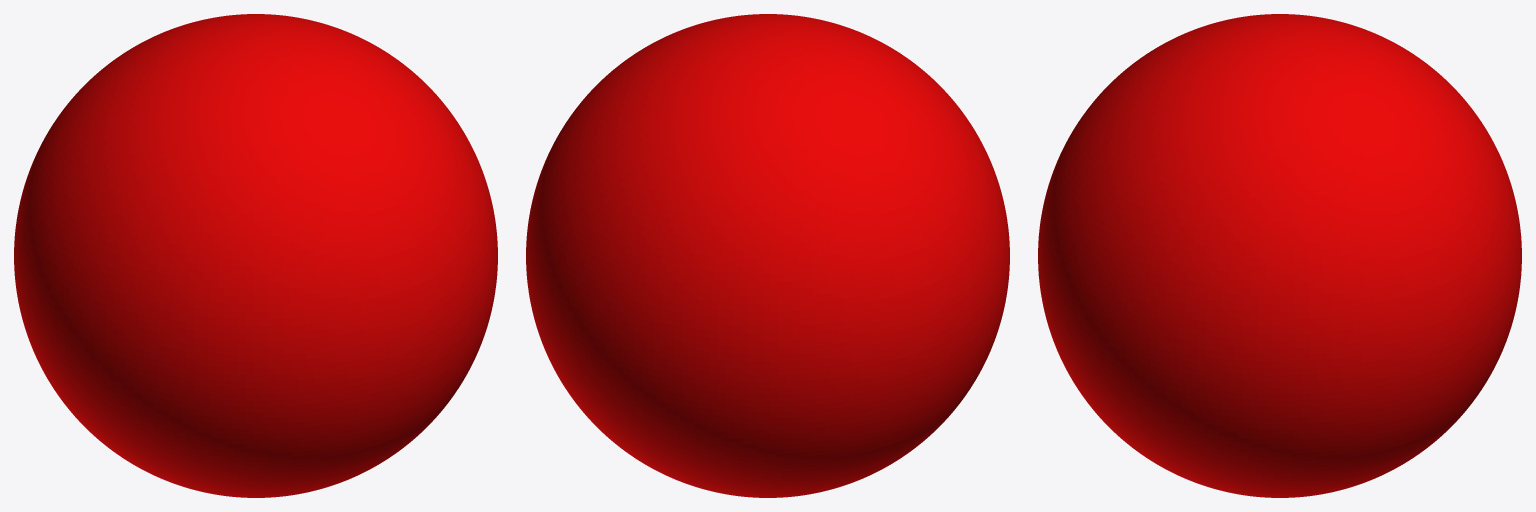
Rendered from sphereRed.dae.
The picture shows the model from 3 angles, left to right: view 1: azimuth 30°, elevation 25°; view 2: azimuth 150°, elevation 25°; view 3: azimuth 270°, elevation 25°; orthographic projection.
Visible parts, largest first — view 1: Sphere; view 2: Sphere; view 3: Sphere.
Boxes of the visible parts, x1,y1,x2,y2 form: Sphere: (14, 14, 497, 497); Sphere: (526, 14, 1009, 497); Sphere: (1038, 14, 1521, 497).
Bounding box in the file's own units: 0.0635 × 0.0635 × 0.0635.
